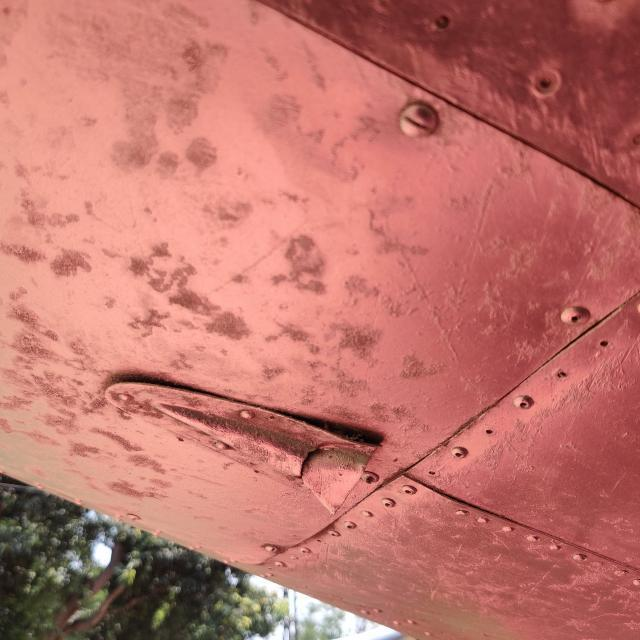Crack: (302, 448, 342, 504)
